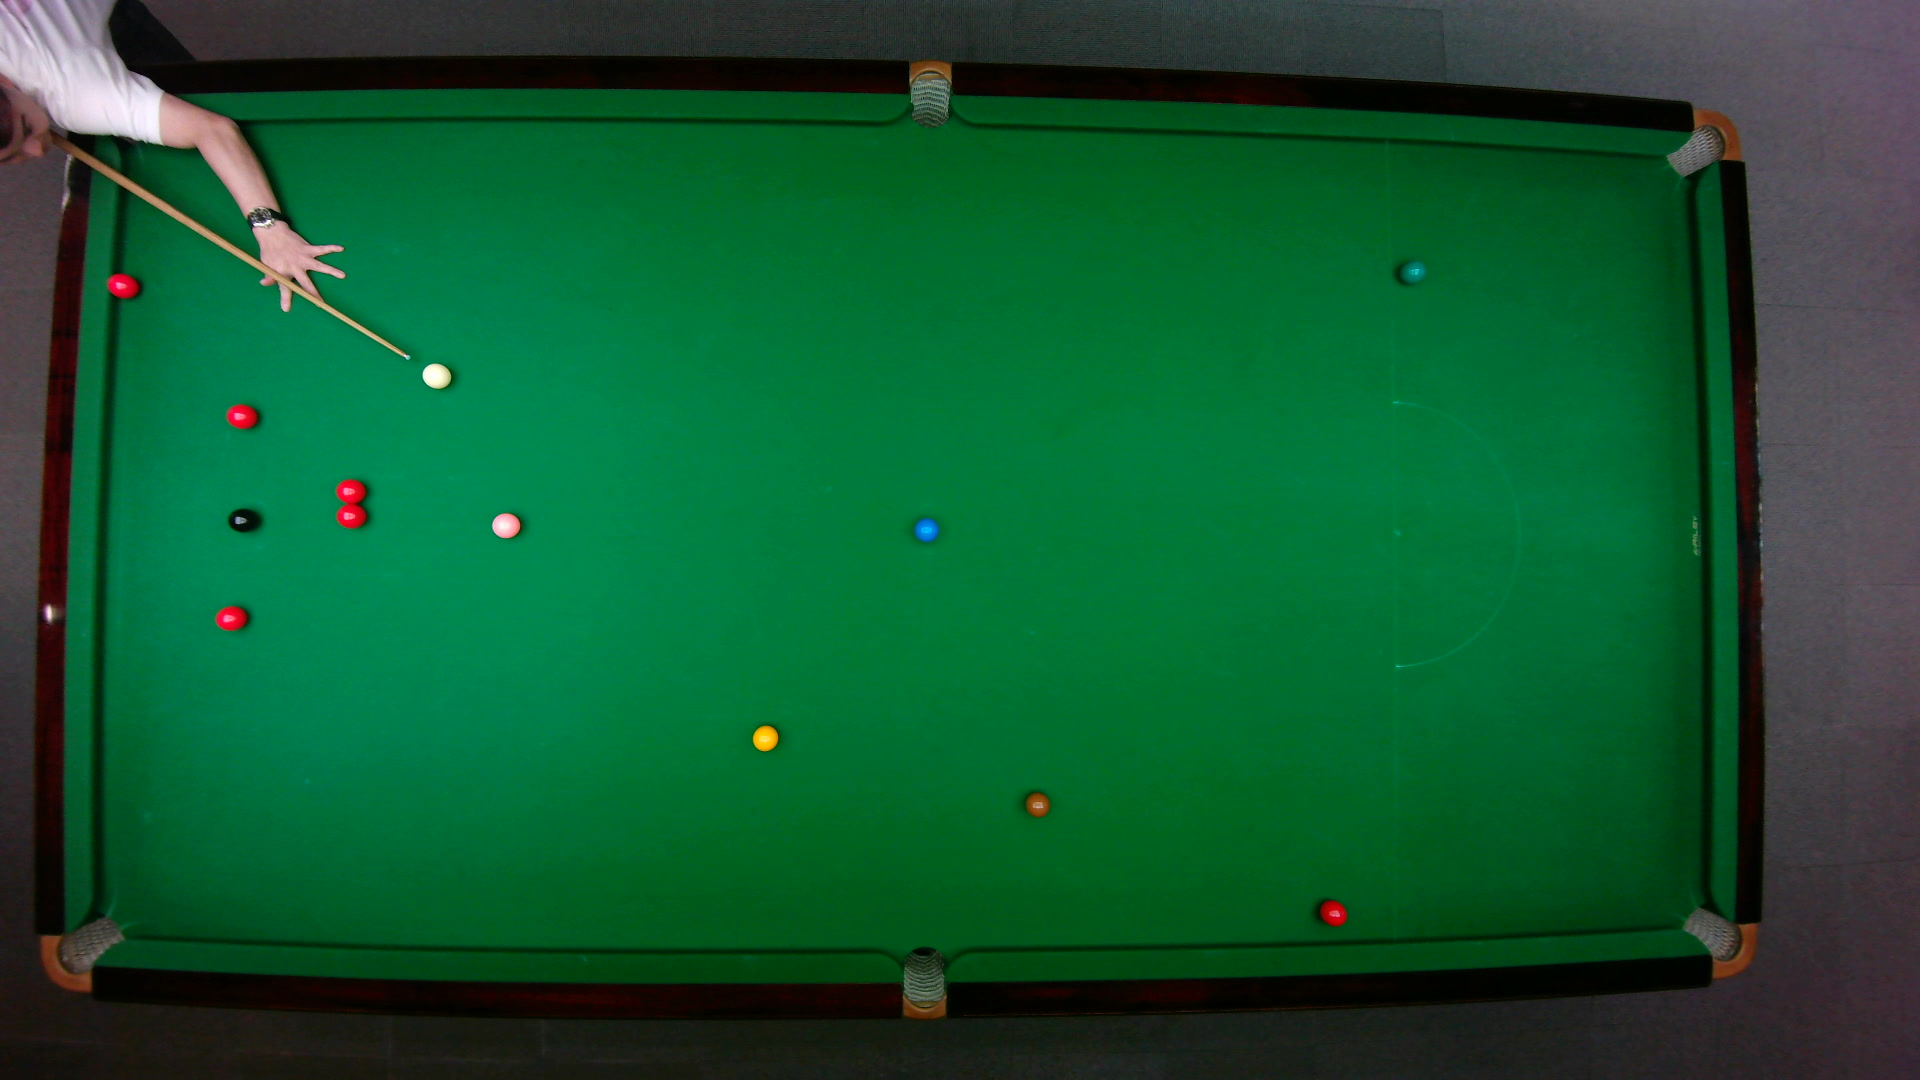bag: (38, 915, 127, 994), (1681, 906, 1759, 980), (1665, 108, 1742, 179), (903, 945, 945, 1021), (909, 59, 952, 129)
black: (227, 508, 260, 533)
blue: (914, 517, 940, 543)
brown: (1025, 793, 1051, 818)
cue: (53, 131, 411, 361)
green: (1399, 260, 1427, 286)
pink: (491, 512, 522, 541)
red: (107, 273, 140, 301), (215, 605, 249, 632), (225, 404, 258, 430), (1320, 899, 1348, 928), (336, 504, 367, 530), (336, 479, 367, 504)
white: (421, 363, 454, 390)
yellow: (752, 724, 781, 753)
zone: (1391, 400, 1523, 669)
